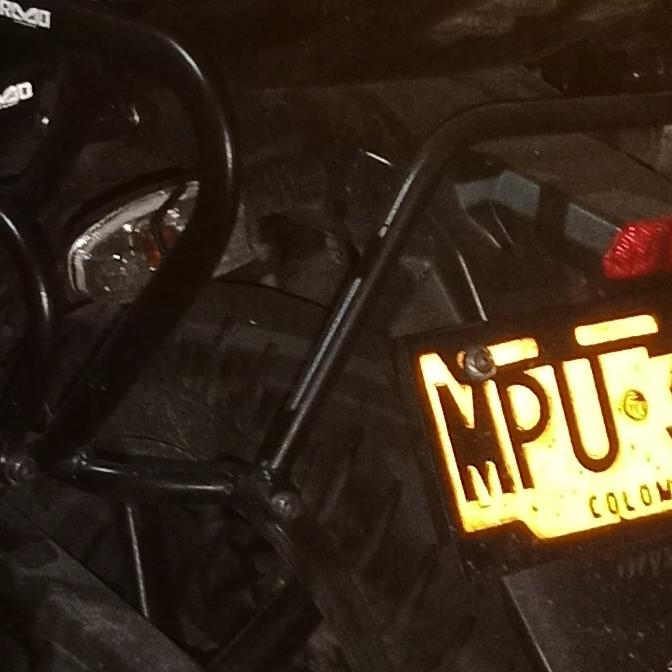plates: (385, 305, 672, 562)
